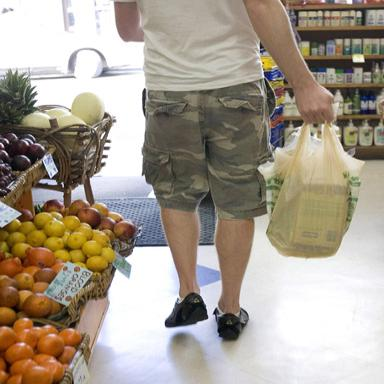plastic bag: (256, 118, 364, 260)
